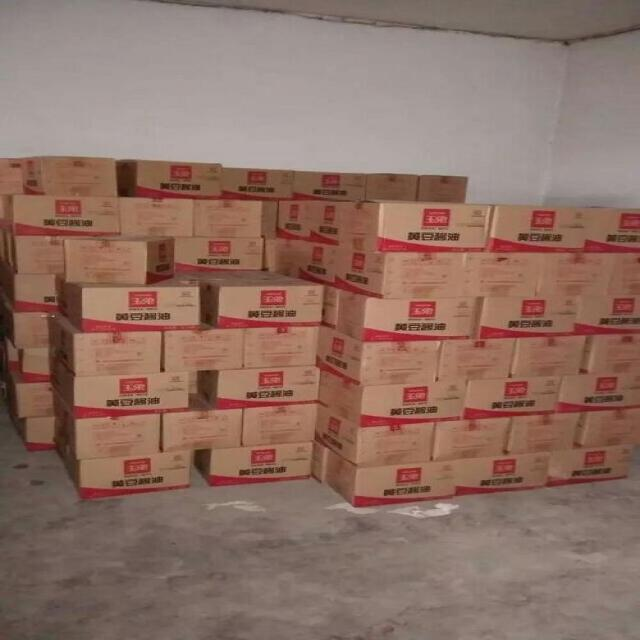box: (275, 198, 493, 252), (287, 239, 466, 298), (55, 428, 191, 499), (320, 367, 468, 427), (49, 355, 189, 418), (56, 272, 197, 333), (49, 386, 161, 460), (315, 326, 442, 386), (315, 405, 435, 468), (49, 312, 164, 376), (337, 290, 479, 341), (326, 451, 457, 503), (200, 277, 323, 328), (64, 235, 175, 285), (195, 441, 315, 486), (196, 366, 319, 409), (485, 206, 593, 253), (3, 193, 120, 236), (163, 393, 244, 452), (461, 375, 563, 420), (474, 296, 580, 338), (116, 159, 221, 200), (456, 453, 552, 496), (547, 443, 640, 487), (165, 322, 244, 371), (19, 157, 118, 196), (461, 252, 544, 297), (436, 338, 517, 383), (536, 253, 617, 296), (558, 373, 640, 414), (242, 403, 320, 446), (175, 236, 265, 273), (433, 418, 509, 461), (118, 195, 195, 237), (195, 199, 279, 237), (244, 326, 320, 368), (506, 413, 581, 455), (10, 234, 90, 273), (509, 336, 585, 376), (1, 262, 58, 312), (0, 290, 49, 347), (576, 294, 640, 336), (576, 334, 640, 374), (576, 408, 640, 447), (584, 209, 640, 252), (223, 167, 293, 200), (5, 373, 52, 419), (292, 171, 366, 200), (6, 407, 55, 450), (175, 270, 291, 288), (364, 172, 420, 200), (416, 174, 468, 203), (608, 253, 640, 294), (20, 347, 50, 383), (265, 239, 292, 275), (0, 158, 23, 193), (321, 285, 339, 329), (311, 443, 329, 484), (0, 336, 20, 372), (0, 231, 12, 267)
